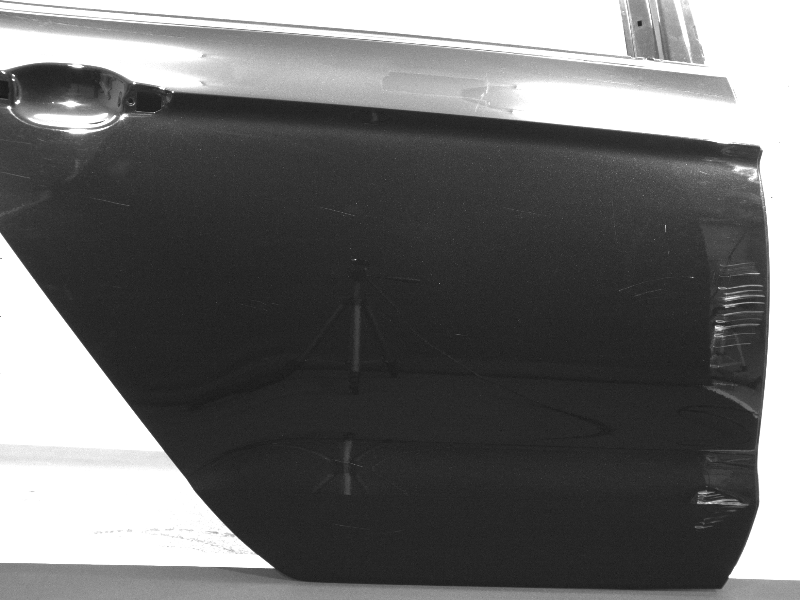scratch: (708, 260, 765, 387), (692, 487, 749, 531), (280, 446, 365, 468), (619, 276, 675, 297), (239, 297, 281, 312), (87, 195, 132, 208), (609, 197, 620, 244), (320, 206, 360, 218), (501, 207, 545, 216), (335, 522, 374, 532), (1, 170, 33, 181), (1, 138, 32, 146), (664, 224, 668, 232)
